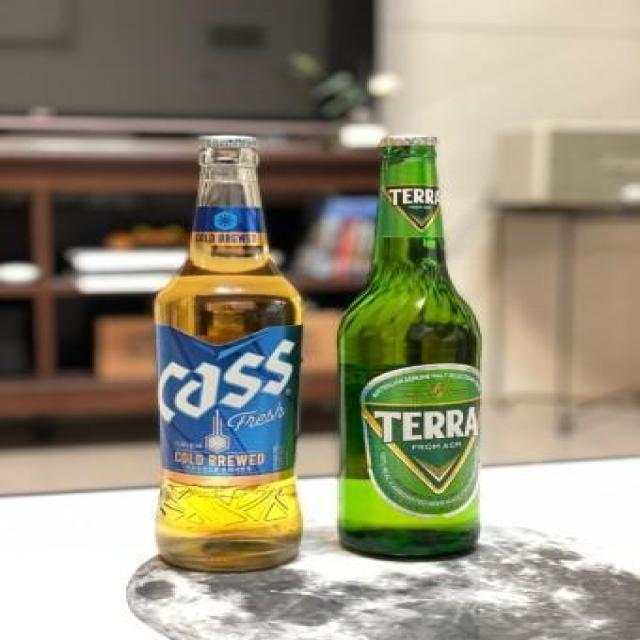beer-bottle: (328, 122, 510, 563), (150, 136, 314, 573)
